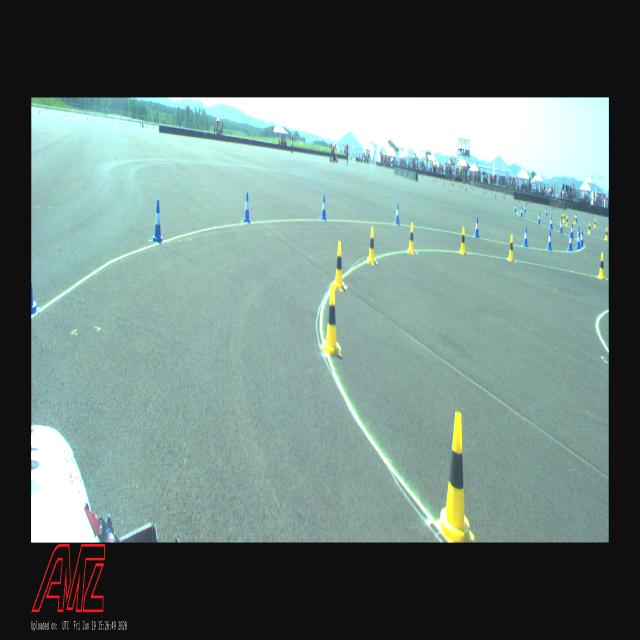blue_cone: (32, 264, 40, 318), (152, 200, 162, 242), (243, 192, 250, 222), (321, 196, 327, 220), (394, 203, 400, 225), (474, 217, 480, 238), (523, 226, 528, 248), (567, 233, 573, 251), (547, 231, 552, 250), (580, 230, 584, 247), (576, 232, 580, 248), (572, 224, 574, 238), (576, 228, 578, 242), (550, 216, 552, 228), (560, 221, 562, 233), (538, 213, 540, 224), (520, 207, 522, 217), (514, 202, 516, 212), (524, 203, 526, 212), (576, 214, 578, 222), (545, 208, 547, 215)
yellow_cone: (434, 411, 474, 541), (322, 284, 342, 358), (332, 242, 344, 292), (366, 227, 376, 264), (408, 222, 416, 255), (508, 234, 514, 262), (598, 253, 604, 280), (460, 227, 466, 254), (587, 222, 591, 235), (604, 228, 608, 240), (566, 216, 568, 226), (560, 214, 562, 224), (563, 214, 565, 222), (574, 215, 576, 223), (594, 220, 596, 228)
